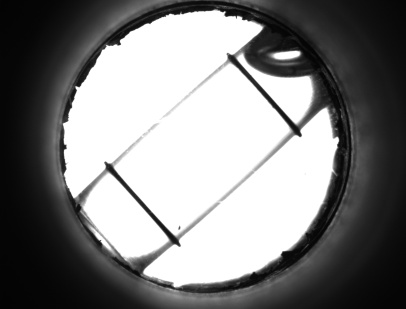line: (118, 186, 171, 226), (249, 88, 295, 113)
